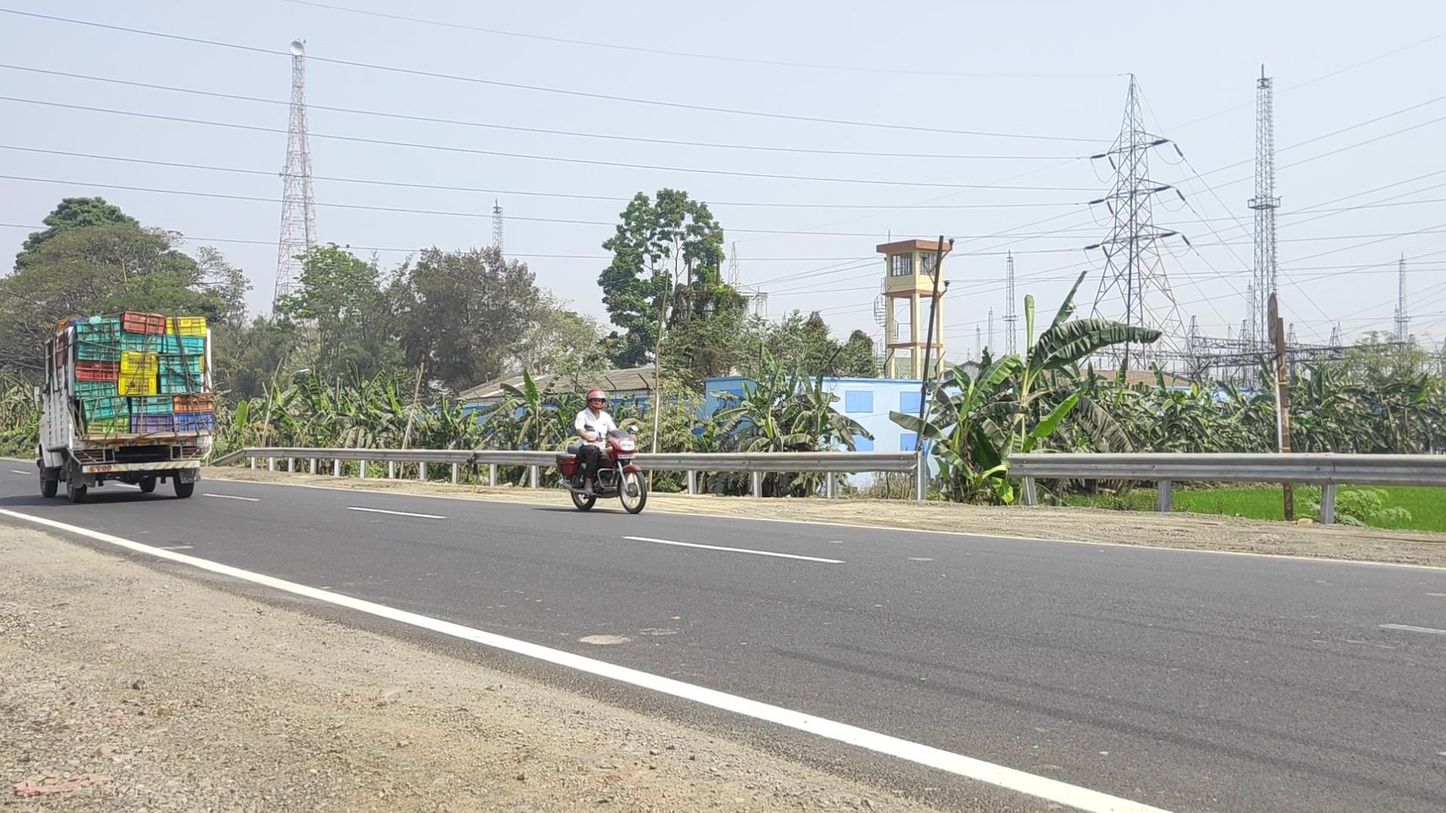bike: (556, 388, 647, 514)
truck: (33, 311, 215, 502)
